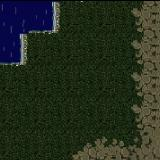Interaction: (0, 43, 32, 80), (46, 0, 70, 40), (12, 26, 45, 42)
Slow: (0, 0, 53, 30), (0, 28, 19, 61)
